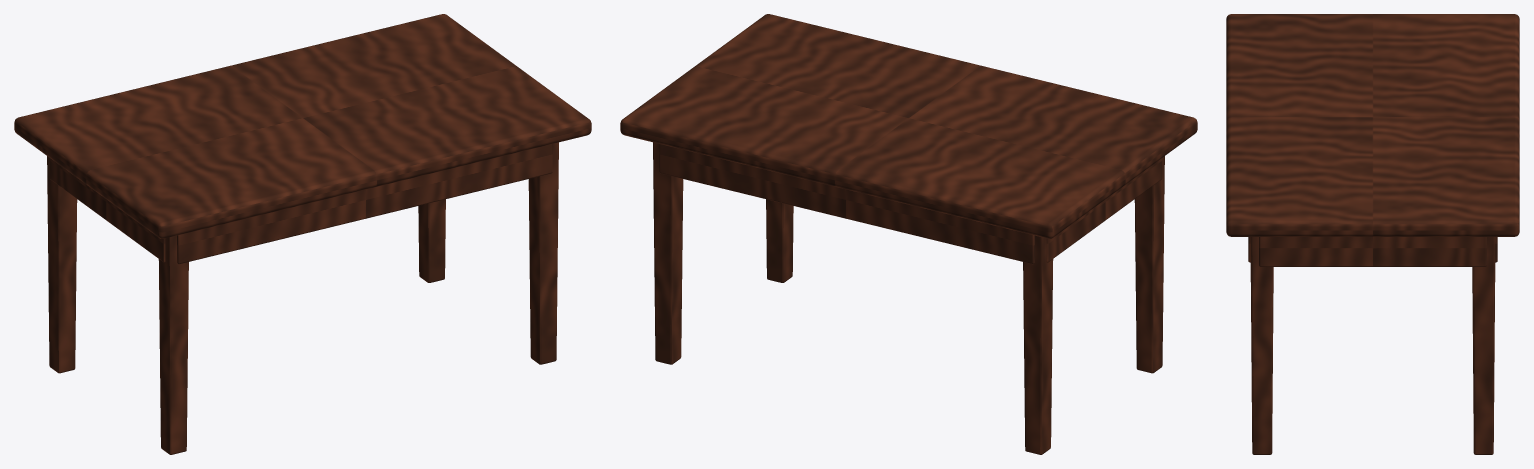
File: kids_table.glb
The picture shows the model from 3 angles, left to right: view 1: azimuth 30°, elevation 25°; view 2: azimuth 150°, elevation 25°; view 3: azimuth 270°, elevation 25°; orthographic projection.
Parts seen in each view (by area): view 1: Furniture_KidsTable_Top.001, Furniture_KidsTable_LongApron_-0.001, Furniture_KidsTable_Leg_-0.448_-0.001, Furniture_KidsTable_Leg_0.448_-0.001, Furniture_KidsTable_Leg_-0.448_0.001, Furniture_KidsTable_EndApron_-0.001, Furniture_KidsTable_Leg_0.448_0.001; view 2: Furniture_KidsTable_Top.001, Furniture_KidsTable_LongApron_0.001, Furniture_KidsTable_Leg_-0.448_0.001, Furniture_KidsTable_Leg_0.448_0.001, Furniture_KidsTable_Leg_-0.448_-0.001, Furniture_KidsTable_EndApron_-0.001, Furniture_KidsTable_Leg_0.448_-0.001; view 3: Furniture_KidsTable_Top.001, Furniture_KidsTable_EndApron_0.001, Furniture_KidsTable_Leg_0.448_0.001, Furniture_KidsTable_Leg_0.448_-0.001.
Boxes of the visible parts, <box> form: Furniture_KidsTable_Top.001: <box>14,14,591,238</box>; Furniture_KidsTable_LongApron_-0.001: <box>177,144,552,264</box>; Furniture_KidsTable_Leg_-0.448_-0.001: <box>158,235,188,454</box>; Furniture_KidsTable_Leg_0.448_-0.001: <box>528,142,558,364</box>; Furniture_KidsTable_Leg_-0.448_0.001: <box>47,156,77,373</box>; Furniture_KidsTable_EndApron_-0.001: <box>49,158,165,262</box>; Furniture_KidsTable_Leg_0.448_0.001: <box>418,199,445,282</box>; Furniture_KidsTable_Top.001: <box>620,14,1197,238</box>; Furniture_KidsTable_LongApron_0.001: <box>659,144,1034,264</box>; Furniture_KidsTable_Leg_-0.448_0.001: <box>1023,235,1053,454</box>; Furniture_KidsTable_Leg_0.448_0.001: <box>653,142,683,364</box>; Furniture_KidsTable_Leg_-0.448_-0.001: <box>1134,156,1164,373</box>; Furniture_KidsTable_EndApron_-0.001: <box>1046,158,1162,262</box>; Furniture_KidsTable_Leg_0.448_-0.001: <box>766,199,793,282</box>; Furniture_KidsTable_Top.001: <box>1226,14,1519,236</box>; Furniture_KidsTable_EndApron_0.001: <box>1259,237,1486,266</box>; Furniture_KidsTable_Leg_0.448_0.001: <box>1472,237,1495,454</box>; Furniture_KidsTable_Leg_0.448_-0.001: <box>1250,237,1273,454</box>.
Bounding box in the file's own units: 1.05 × 0.57 × 0.62.
Materials: 1 (1 with a texture image).
